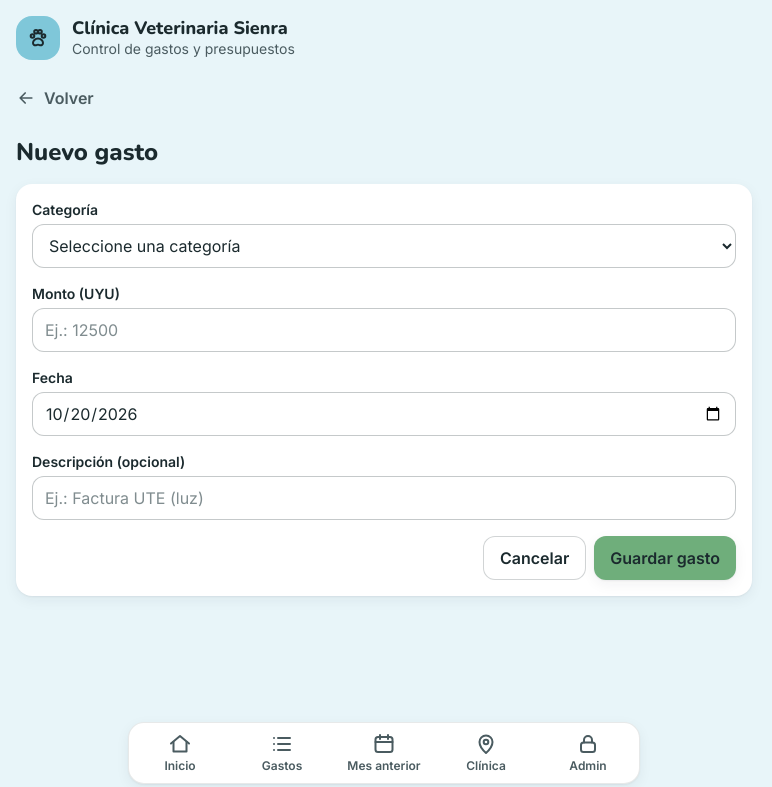
Test: Expense form cancel › goes back to the dashboard from a directly opened new-expense form
This screenshot has width=772, height=787.
Click the button "Cancelar" at coordinates (535, 558), box 483,536 -> 586,580
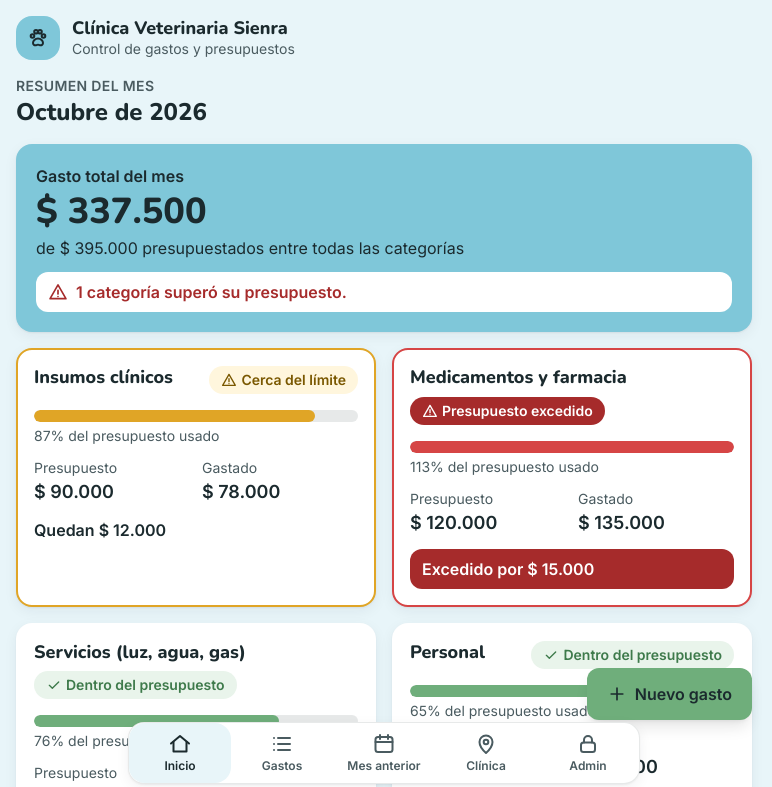
Expected: the text "$ 337.500" is shown, 36,187 -> 207,236
